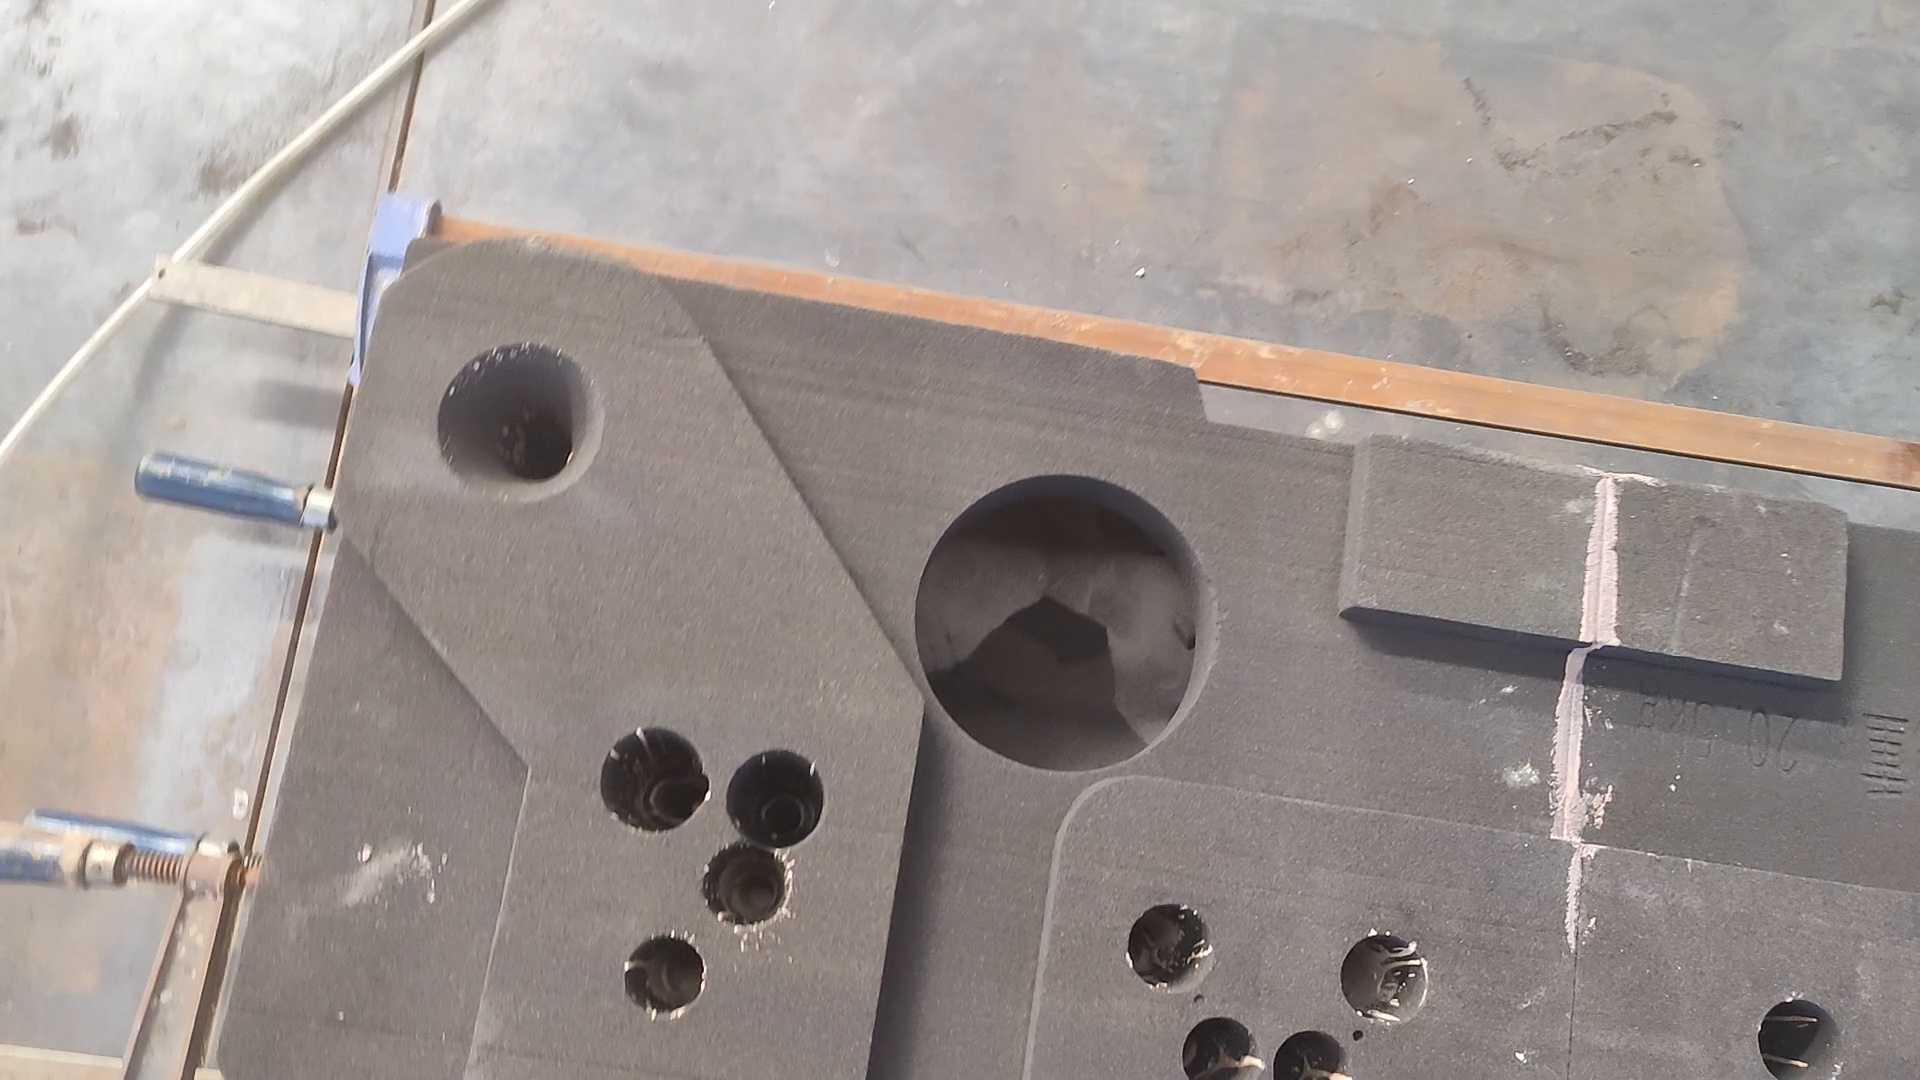pouring hole: (435, 342, 605, 504)
